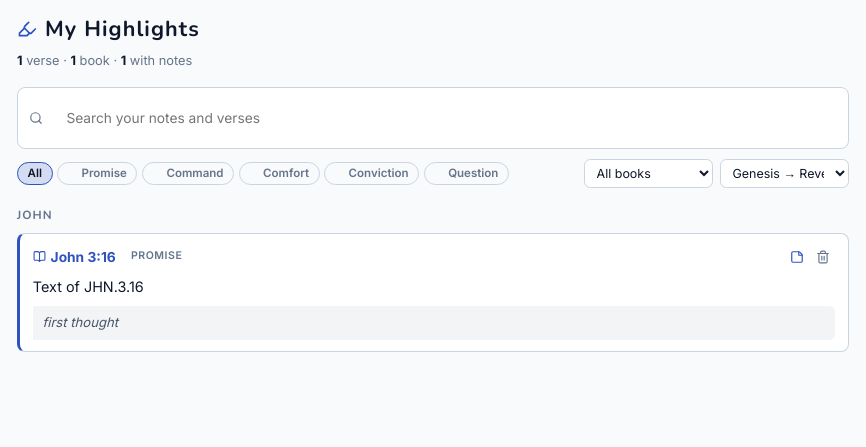
Test: Highlights page › keeps a note visible and editable after saving
This screenshot has width=866, height=447.
Click the button "first thought".
click(80, 322)  # box [33, 306, 835, 340]
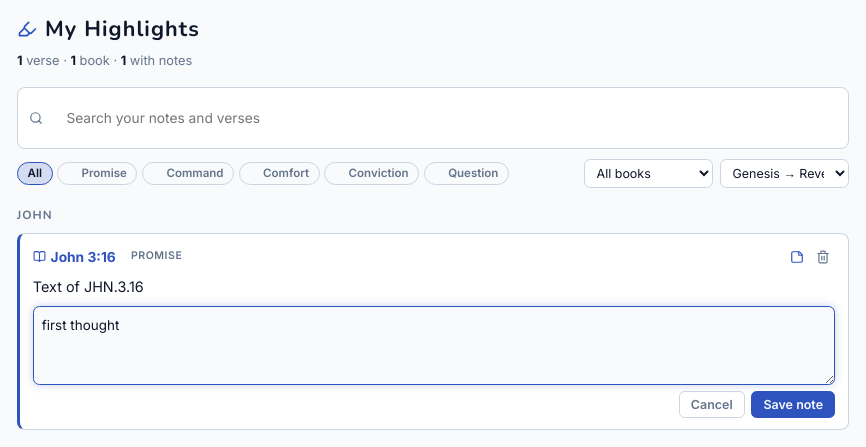
Now the text box with placeholder "What is this verse saying to you?" holds "first thought"
Replace the text in the text box with placeholder "What is this verse saying to you?" with "second thought" at (434, 345), box [33, 306, 835, 385]
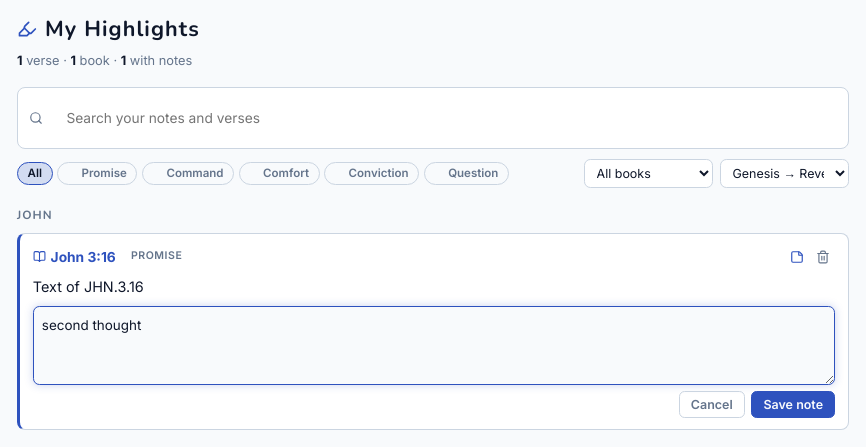
Click the button "Save note".
click(793, 405)  # box [751, 391, 835, 418]
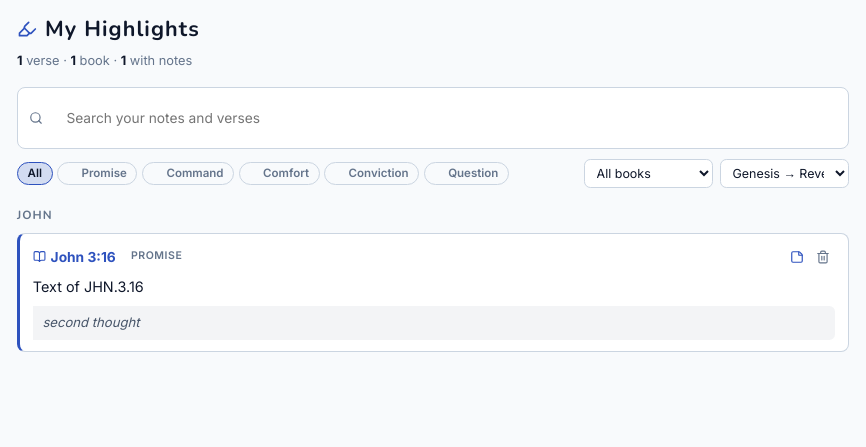
Now the button "second thought" is shown, box [33, 306, 835, 340]
